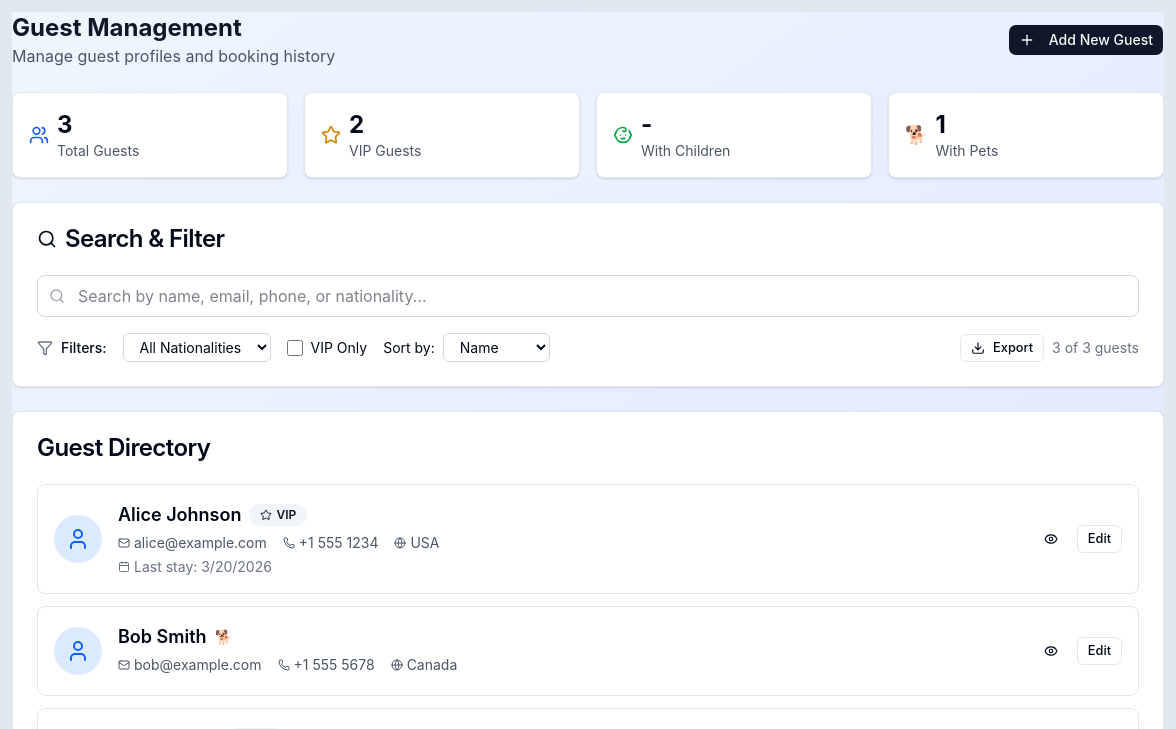
Scenario: GuestManagementPage › search filter › filters guests by name
Type "Alice" into the field with placeholder "Search by name, email, phone, or nationality..." at (588, 296), box [37,275,1139,317]
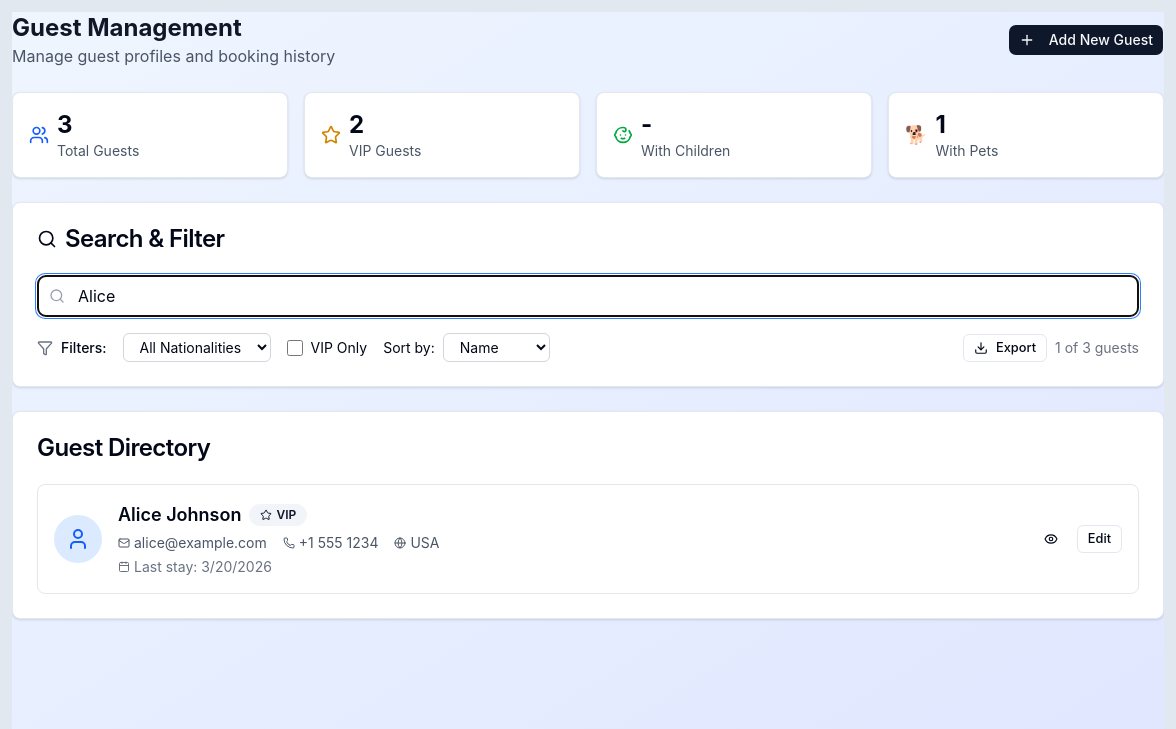
Expected: the heading "Alice Johnson" is shown, [118,501,242,529]
Result: the heading "Bob Smith" is gone
